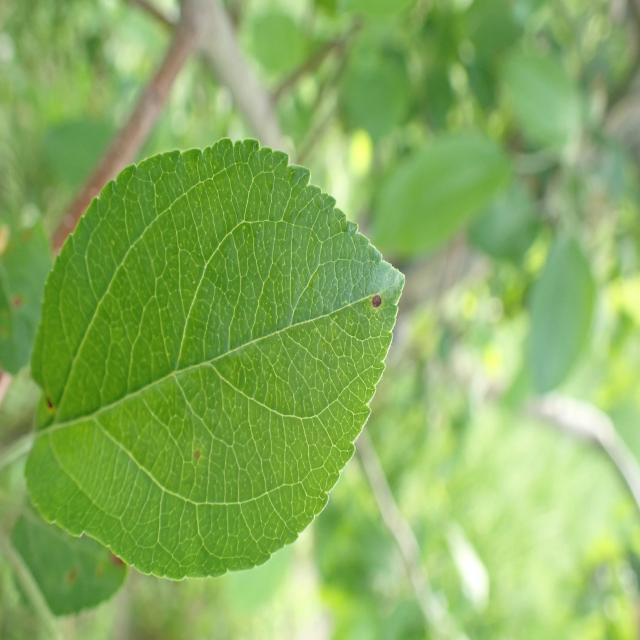Black Rot: (338, 268, 394, 344)
